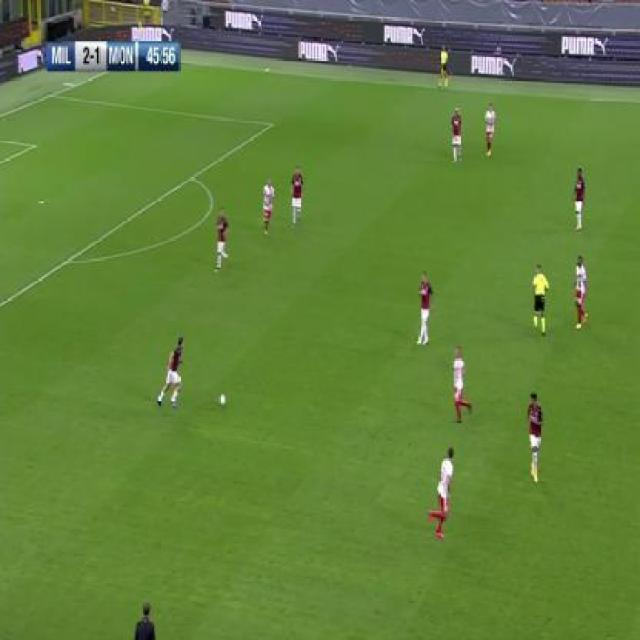ball: (218, 391, 227, 408)
player: (427, 448, 456, 539), (155, 335, 188, 414), (525, 389, 545, 485), (452, 345, 474, 424), (415, 268, 435, 344), (531, 261, 550, 340), (572, 255, 591, 331), (212, 205, 231, 274), (288, 163, 304, 231), (571, 166, 587, 234), (260, 175, 276, 240), (449, 104, 463, 167), (482, 101, 496, 160), (437, 42, 450, 93)
